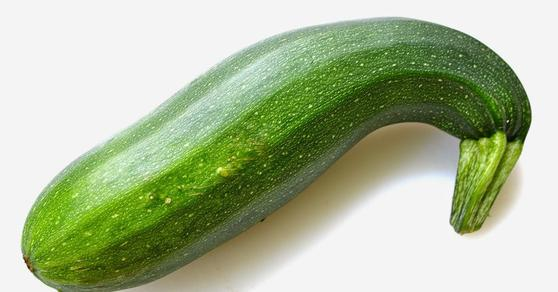zucchini: (20, 15, 539, 292)
